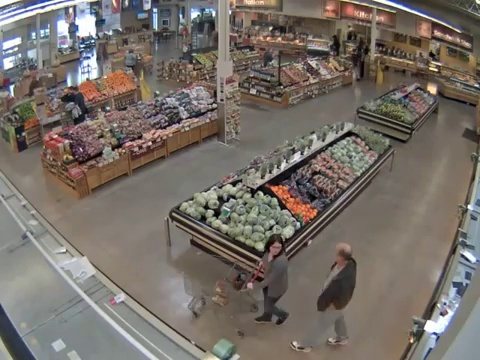face: (269, 241, 284, 255)
